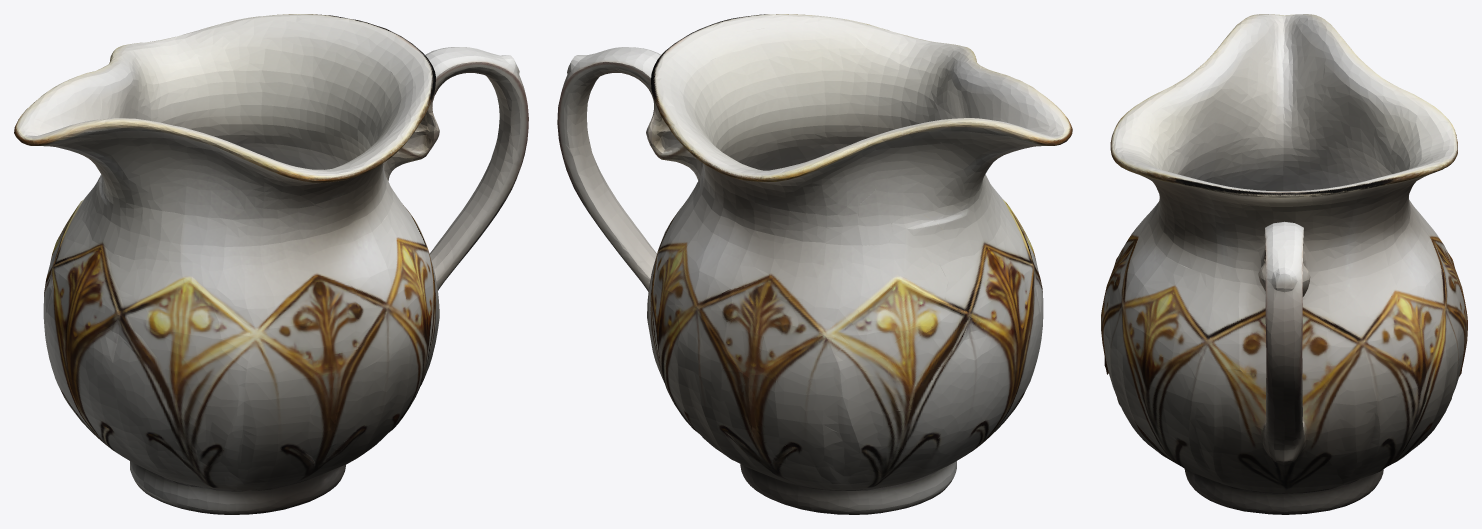
Rendered from porcelain-cream-jug-art-deco.jpeg.glb.
3 views of the same model, side by side, from view 1: azimuth 30°, elevation 25°; view 2: azimuth 150°, elevation 25°; view 3: azimuth 270°, elevation 25° (orthographic). The views are drawn at different scales.
Visible parts, largest first — view 1: world; view 2: world; view 3: world.
Boxes of the visible parts, <box> form: world: <box>14,14,528,514</box>; world: <box>557,14,1072,514</box>; world: <box>1101,14,1467,514</box>.
Bounding box in the file's own units: 1 × 0.7761 × 0.6772.
1 material, 1 textured.
